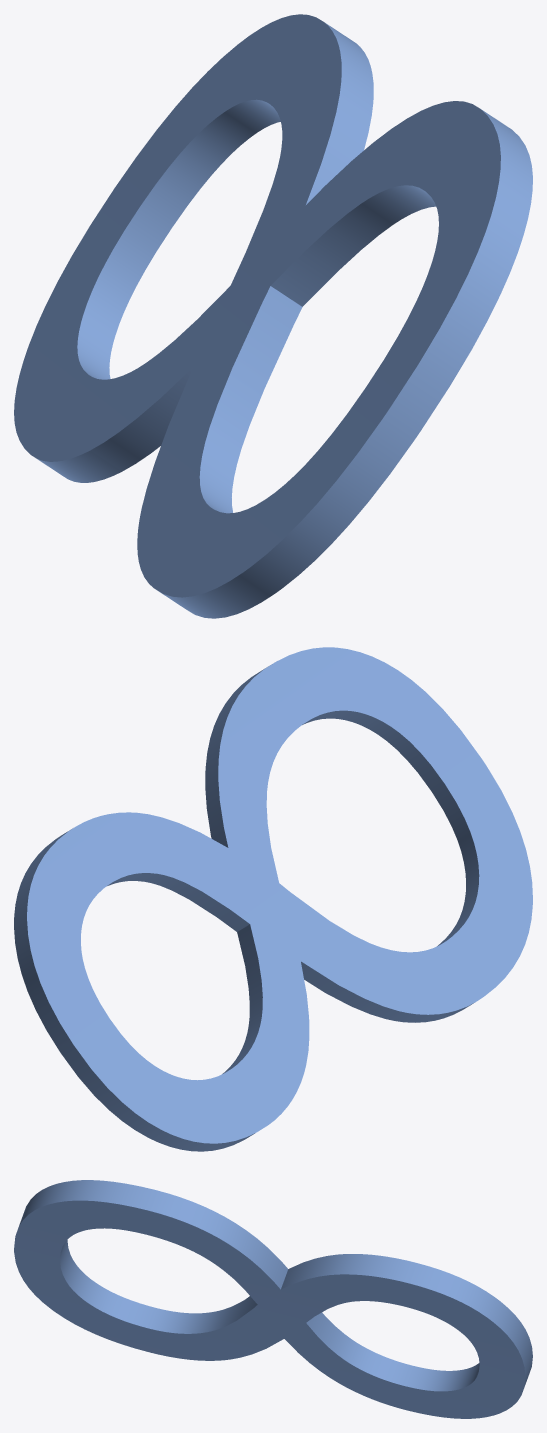
The model's file is New_Number_8.gltf.
The picture shows the model from 3 angles, top to bottom: view 1: azimuth 30°, elevation 25°; view 2: azimuth 150°, elevation 25°; view 3: azimuth 270°, elevation 25°; orthographic projection. The views are drawn at different scales.
Parts seen in each view (by area): view 1: Part 683; view 2: Part 683; view 3: Part 683.
Boxes of the visible parts, left/top/right/bottom form: Part 683: left=14, top=14, right=532, bottom=618; Part 683: left=14, top=647, right=532, bottom=1151; Part 683: left=14, top=1180, right=532, bottom=1418.
Size of the model in its own units: 0.00309 by 0.00333 by 0.00554.
